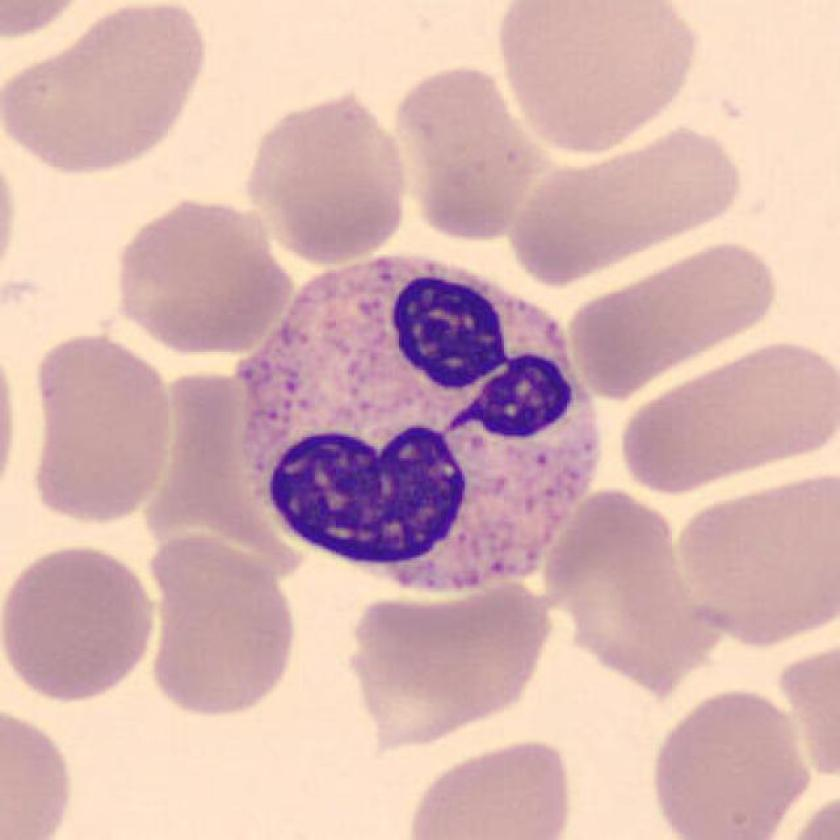neutrophil: (244, 259, 596, 591)
